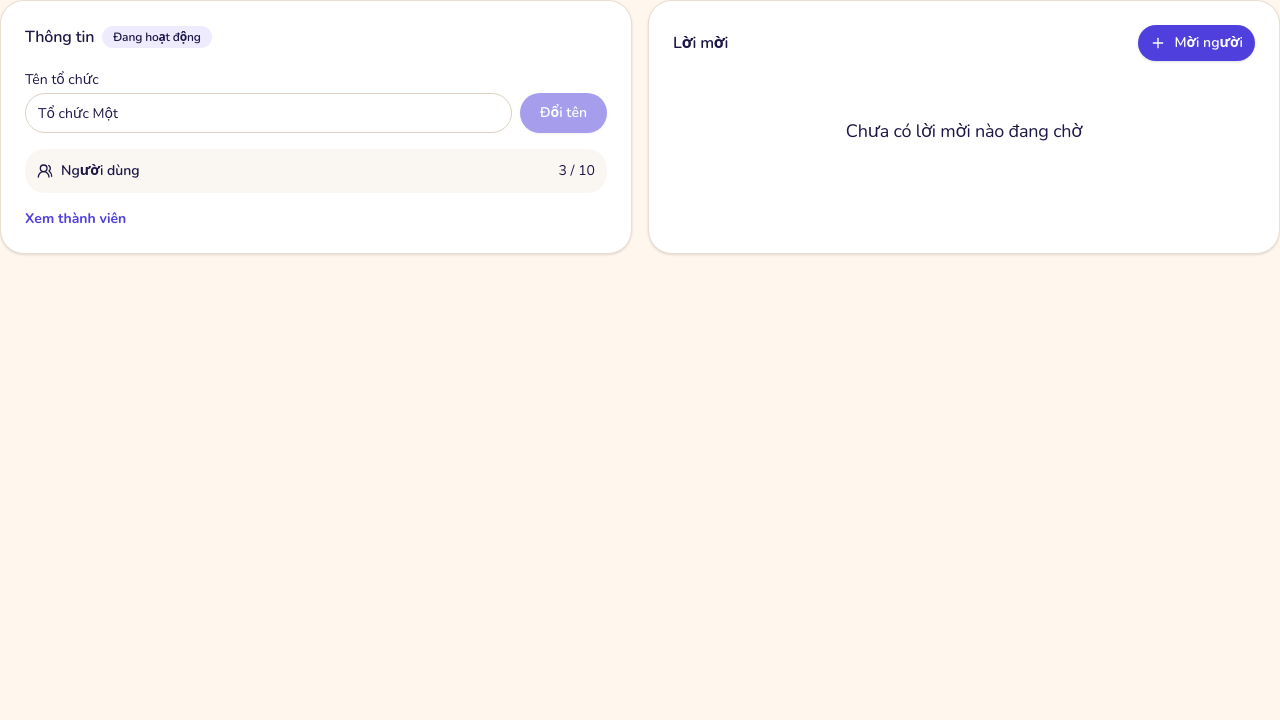
OrgPage › mời qua link dùng chung: chọn vai trò viewer, số lần dùng → hiện link một lần
The width and height of the screenshot is (1280, 720).
Expected: the heading "Chưa có lời mời nào đang chờ" is shown, [846,117,1082,145]
Click the button with test id "invite-new". click: coordinates (1197, 43)
box: [1138,25,1255,61]
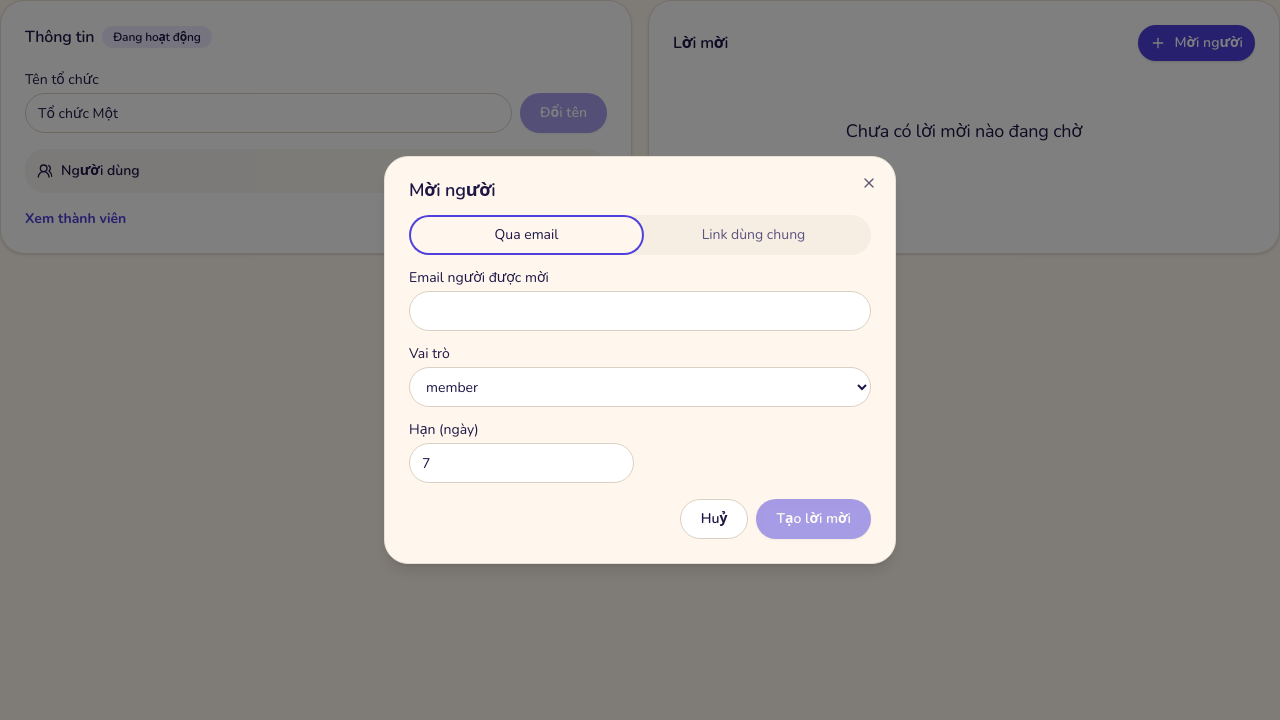
Click the tab with test id "invite-mode-link". click: coordinates (754, 235)
box: [640,219,867,251]
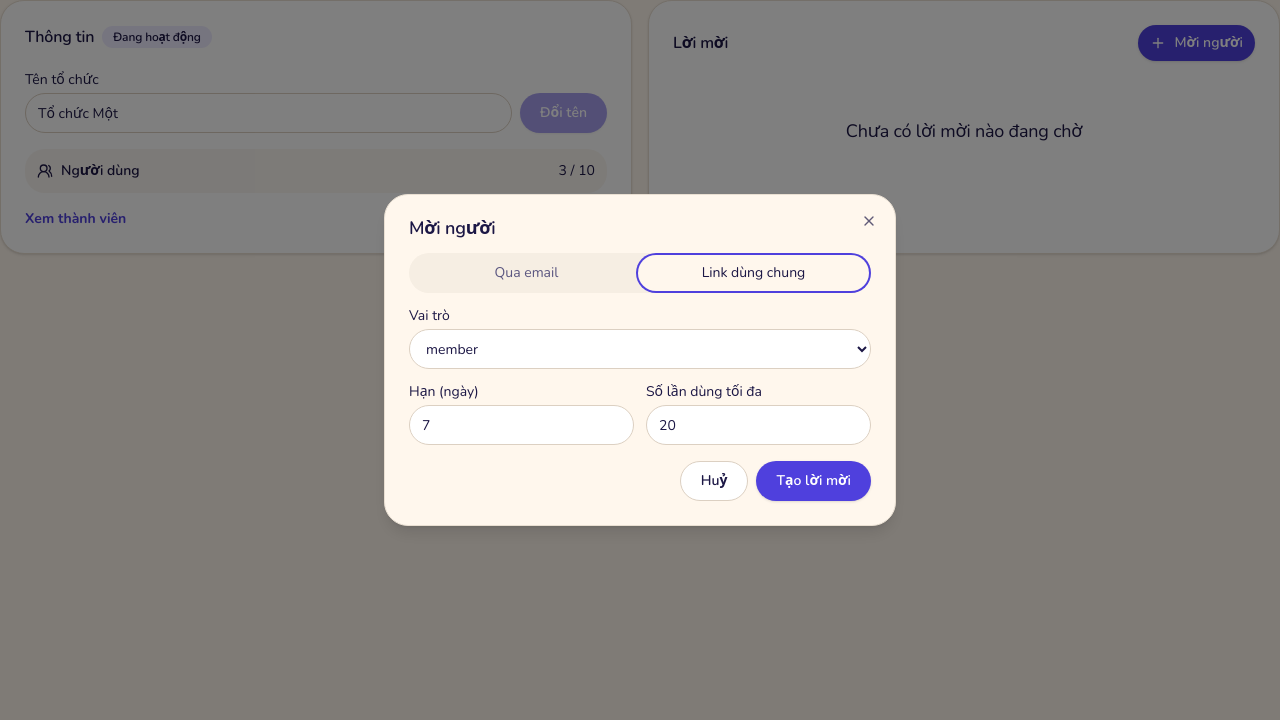
Select "viewer" in the dropdown with test id "invite-role". click: coordinates (640, 349)
box: [409,329,871,369]
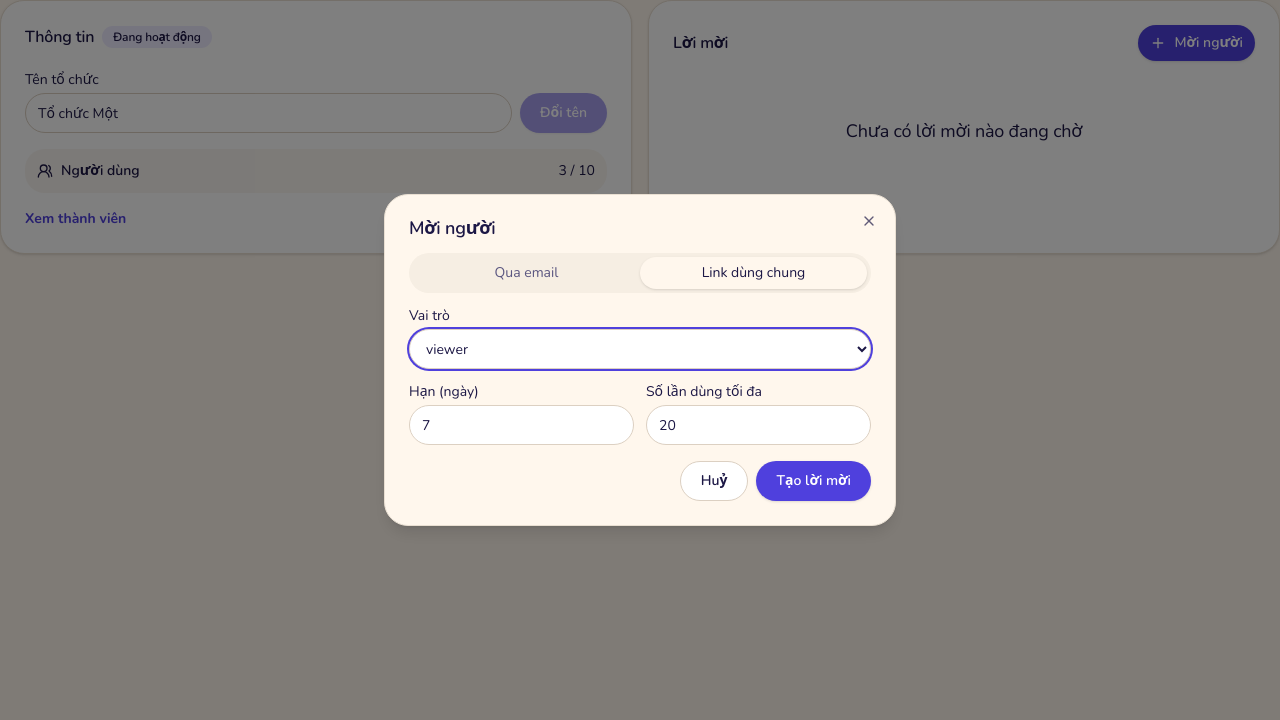
Replace the text in the field with test id "invite-max-uses" with "5". click: coordinates (758, 425)
box: [646,405,871,445]
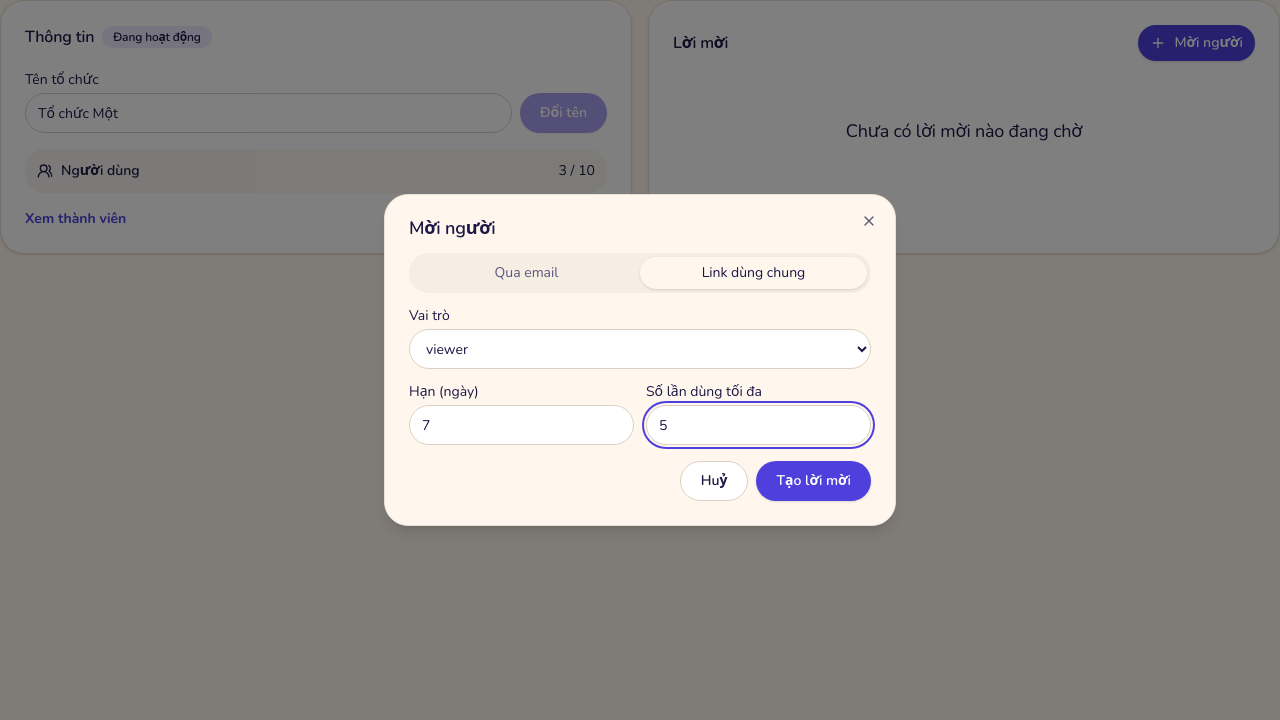
Click the button with test id "dialog-submit". click: coordinates (814, 481)
box: [756,461,871,501]
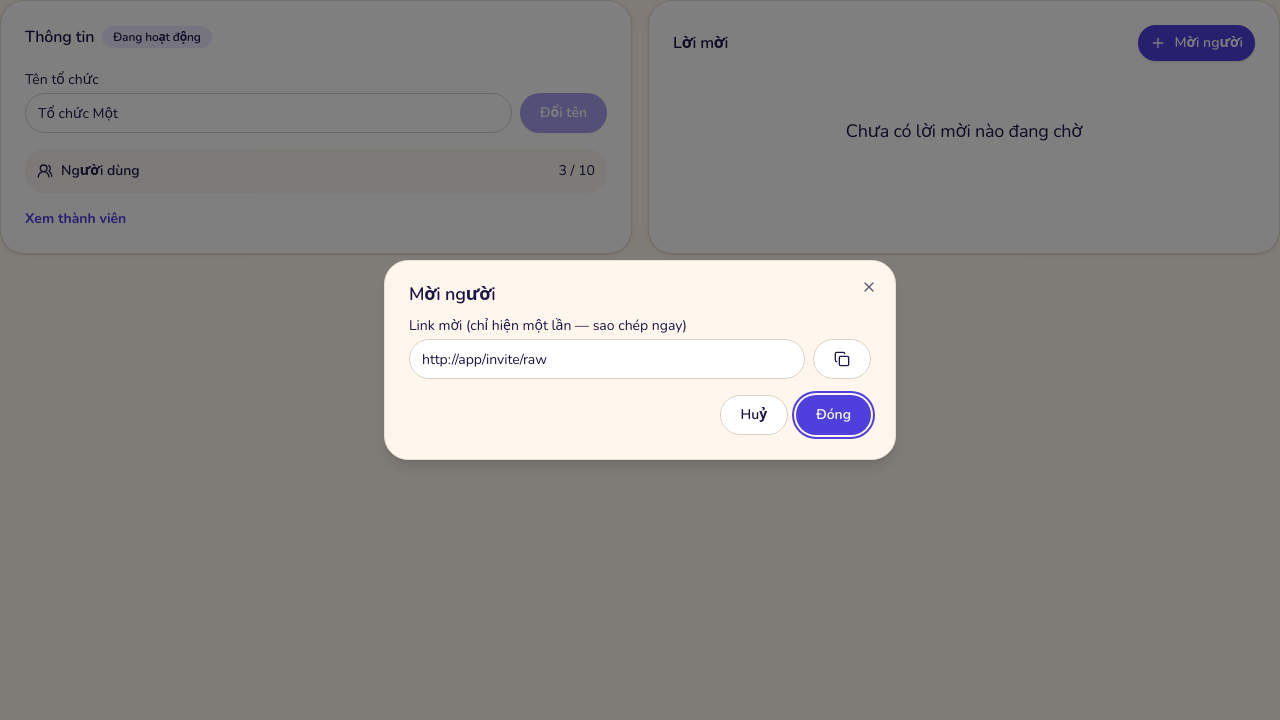
Result: the field with test id "invite-link" holds "http://app/invite/raw" at [409,339,805,379]
